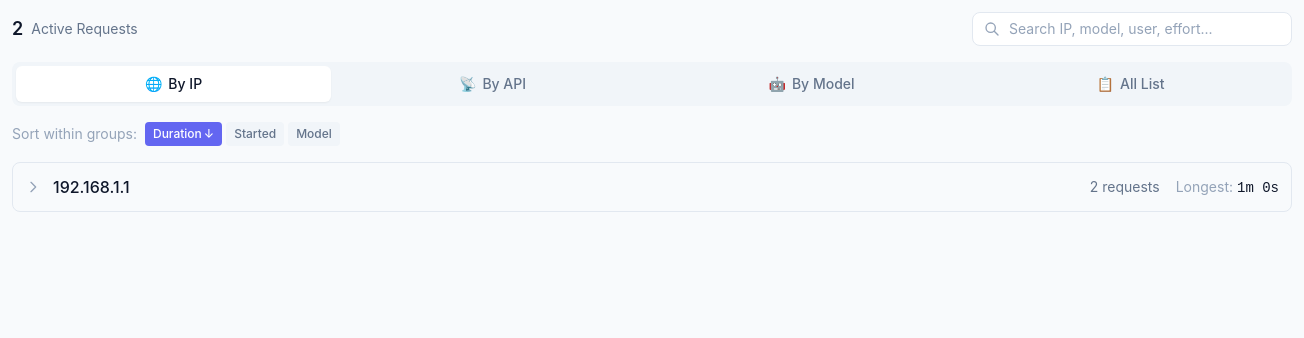
Test case: LiveRequestsPanel - Sort and Load More › sorts by duration by default (longest first)
Click the text "All List" at point(1142, 84), box [1120,74,1164,94]
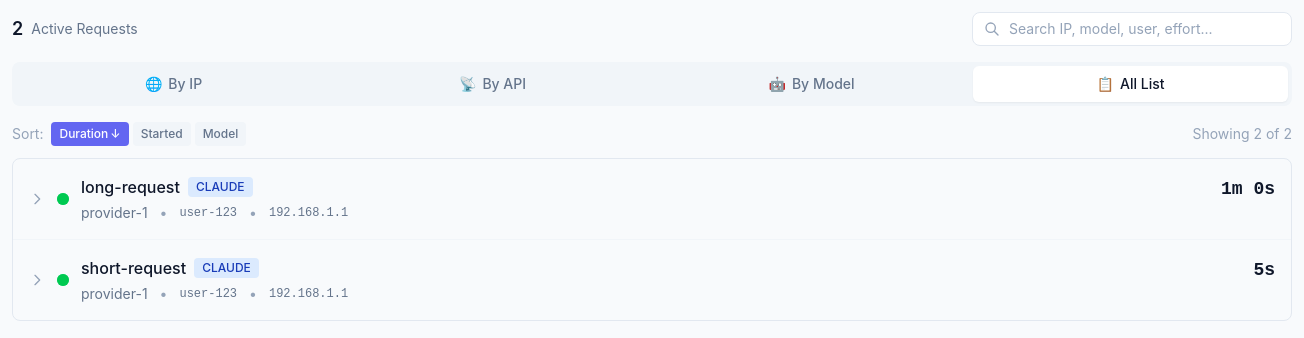
Expected: the text "long-request" is shown, [81,175,180,199]
Expected: the text "short-request" is shown, [81,256,186,280]
